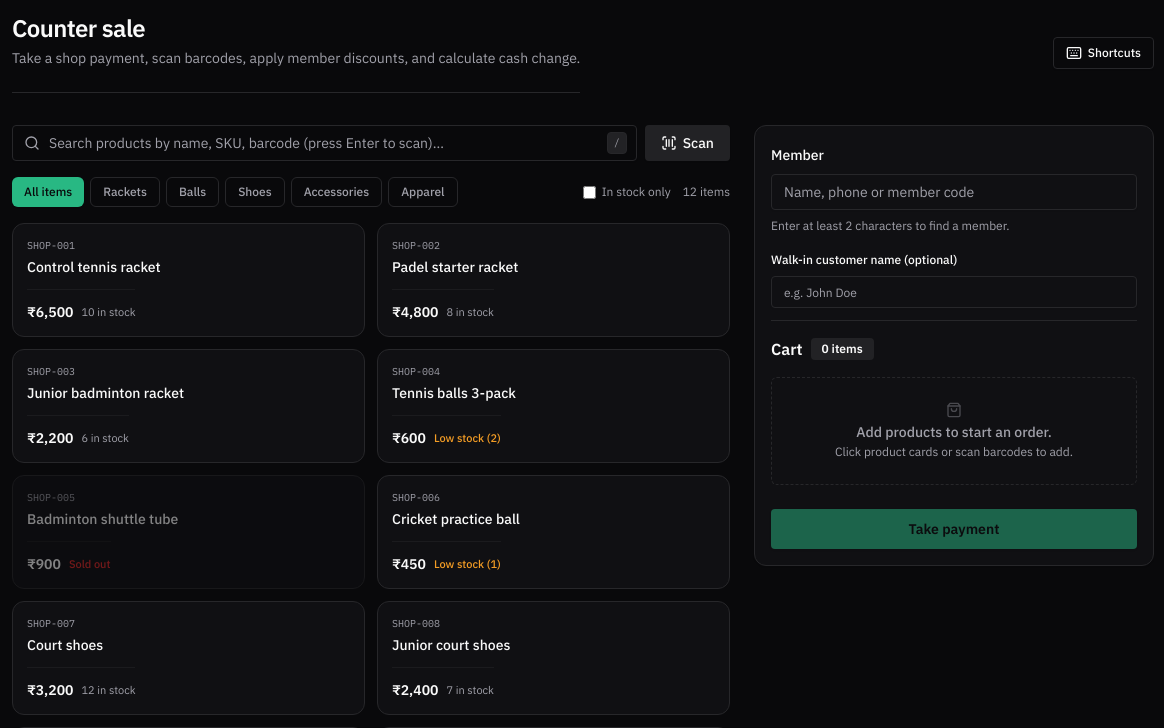
Counter sale POS (Issue #71) › filters product catalogue by category tab and search input
Expected: the text "Control tennis racket" is shown, [27,258,161,276]
Expected: the text "Tennis balls 3-pack" is shown, [392,384,516,402]
Note: Click 'Balls' category tab
Step 1. Click the tab "Balls" → (192, 192), box [166,177,219,207]
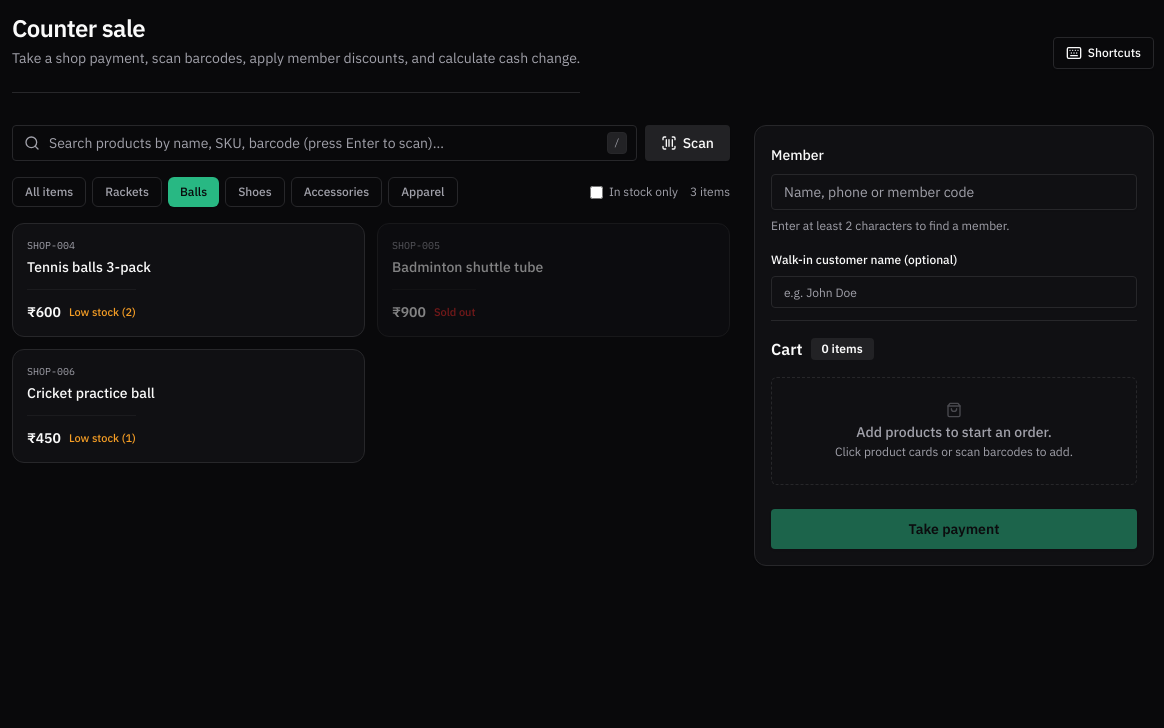
Expected: the text "Tennis balls 3-pack" is shown, [27,258,151,276]
Result: the button "Control tennis racket" is gone
Note: Switch back to 'All items'
Step 2. Click the tab "All items" → (49, 192), box [12,177,86,207]
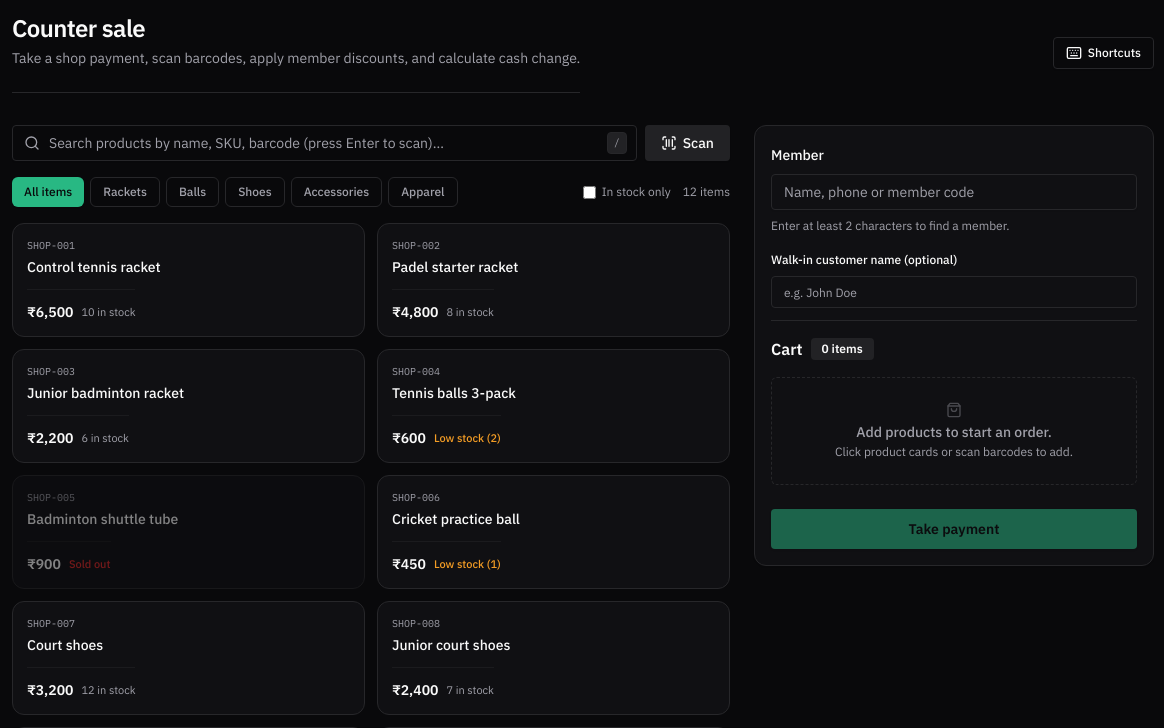
Result: the text "Control tennis racket" is shown at [27,258,161,276]
Note: Search for a specific product by SKU
Step 3. Type "SHOP-004" into the field labelled "Search products" → (324, 143), box [12,125,637,161]
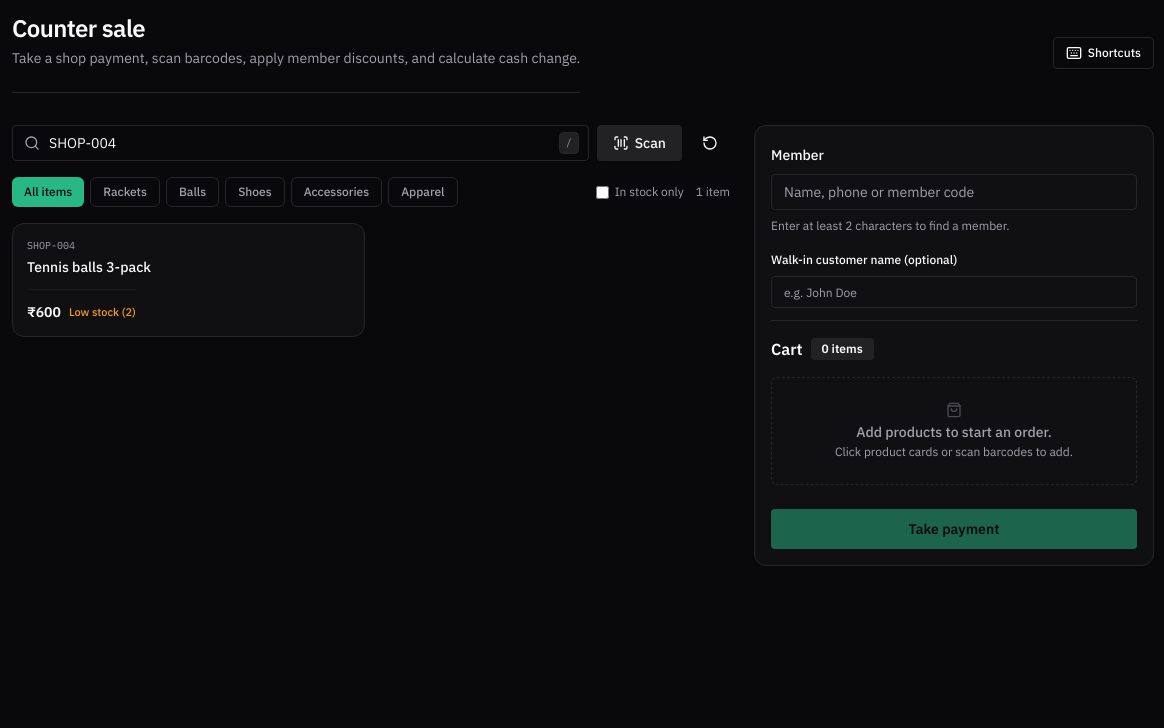
Expected: the text "Tennis balls 3-pack" is shown, [27,258,151,276]
Result: the button "Control tennis racket" is gone
